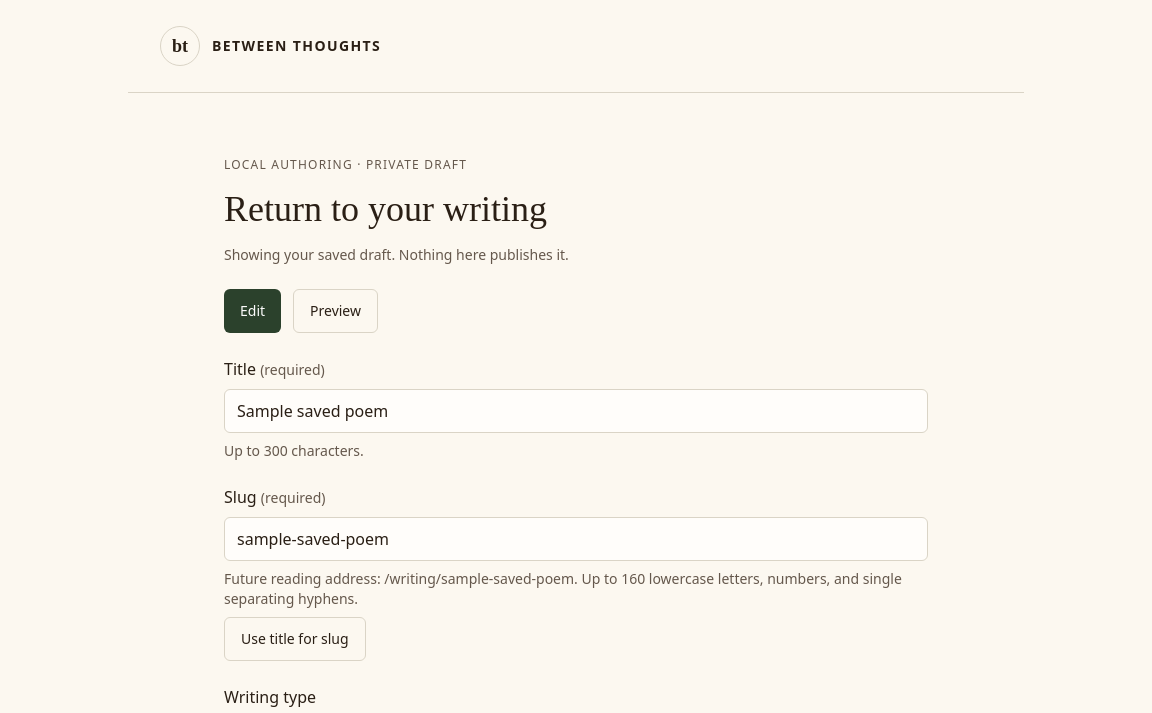
Test: saves edits with the loaded version and updates saved state
The width and height of the screenshot is (1152, 713).
Replace the text in the field labelled "Title (required)" with "Edited title": x=576, y=411 [224,389,928,433]
(page scrolled)
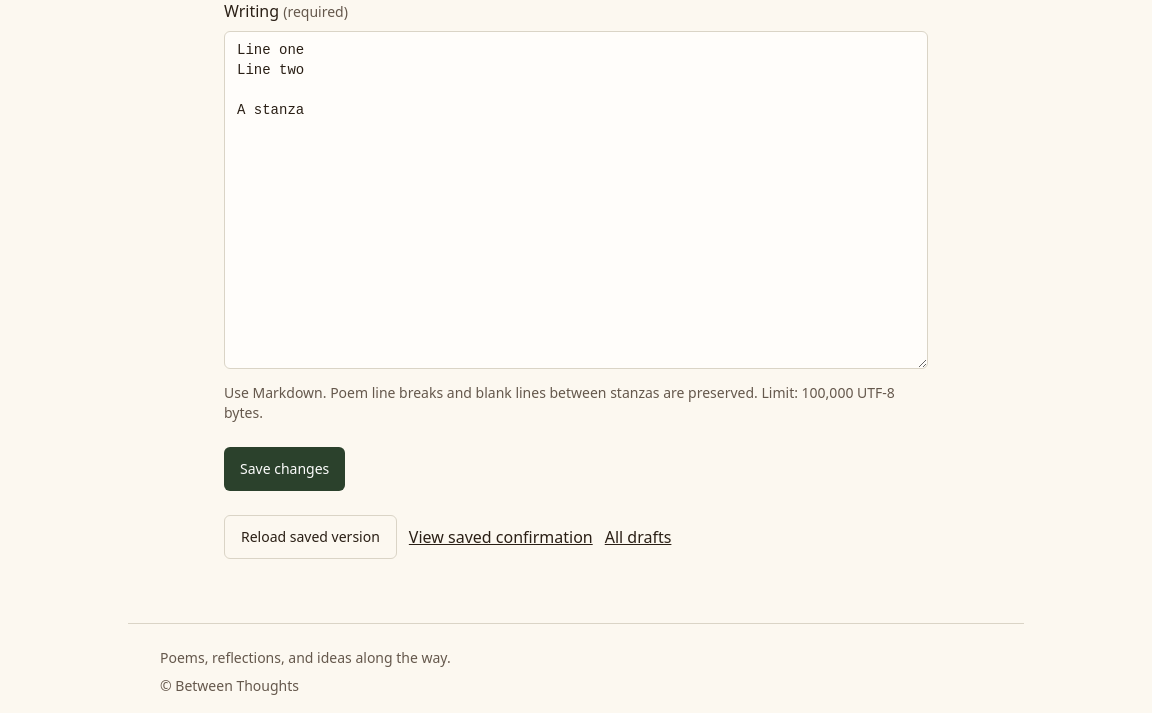
Click the button "Save changes": x=285, y=469 [224,447,345,491]
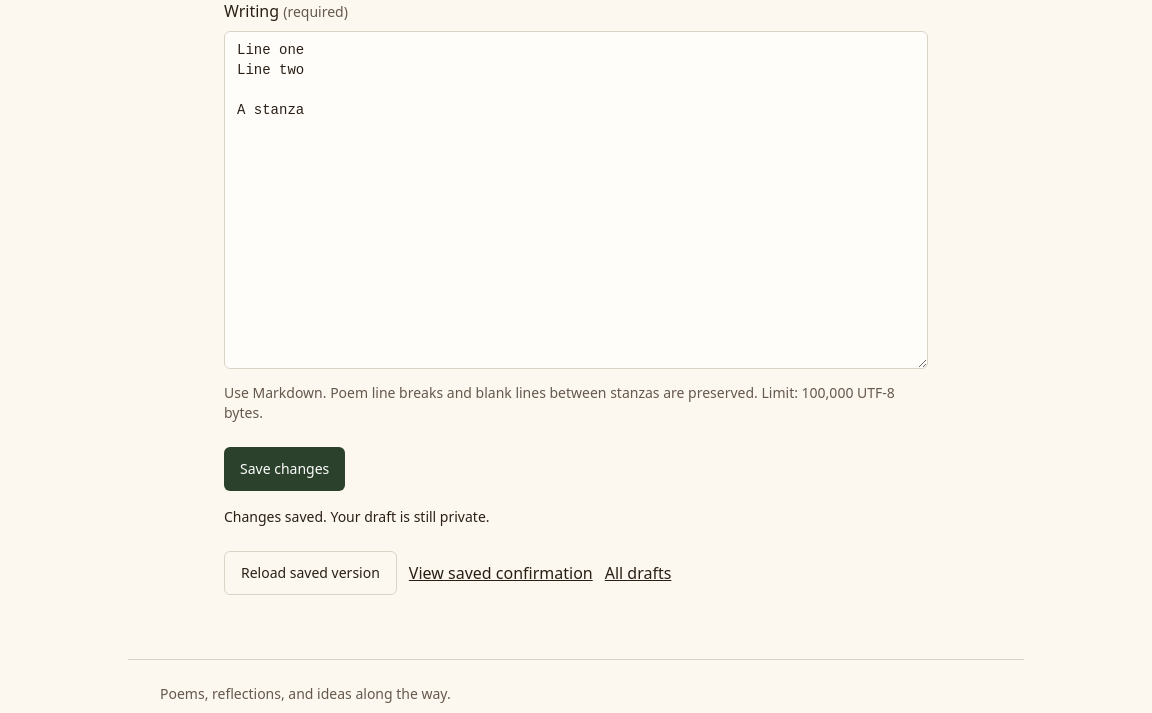
Check: the text "Changes saved. Your draft is still private." is shown, box [224,507,490,526]
